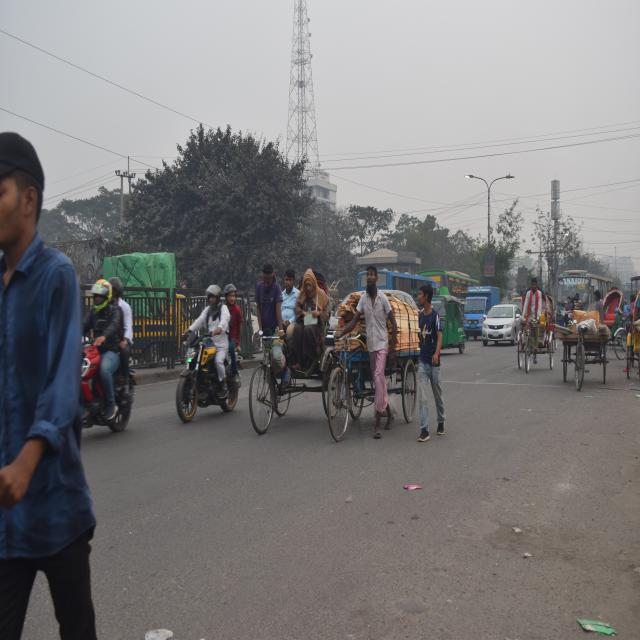bus: (554, 266, 618, 327)
car: (481, 294, 518, 347)
motorbike: (164, 331, 245, 422), (80, 334, 138, 446)
pickup-van: (465, 284, 496, 338)
